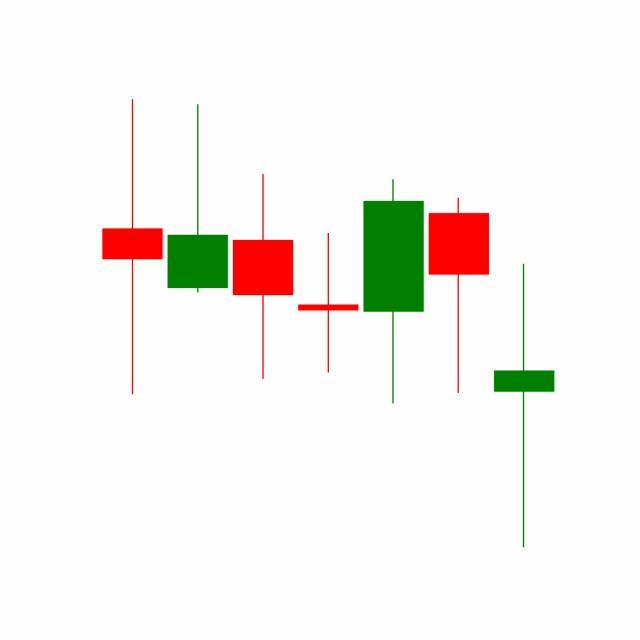Hikkake Pattern: (229, 170, 555, 549)
